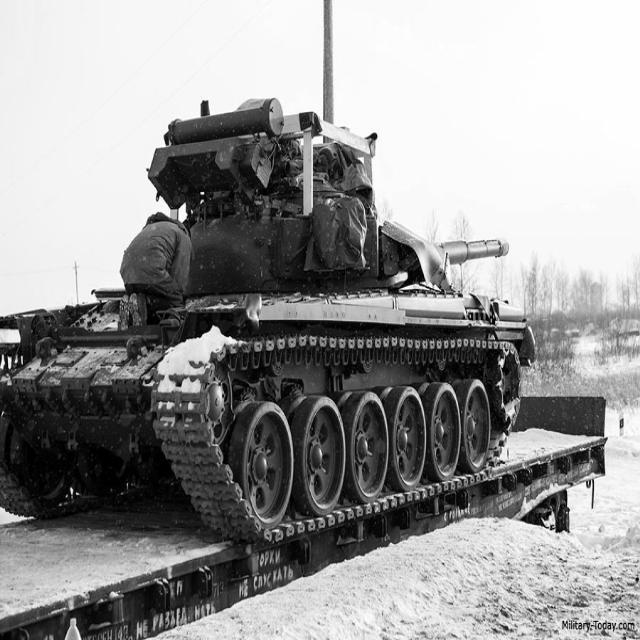Tank: (7, 90, 539, 552)
